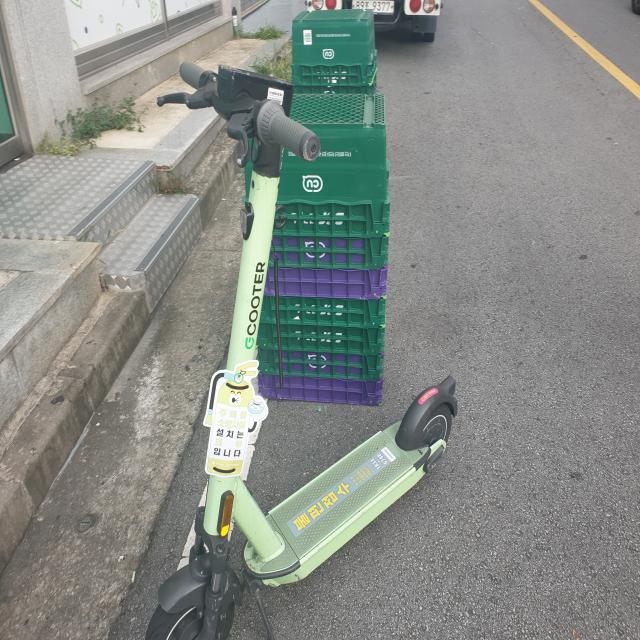bike: (138, 12, 458, 639), (139, 365, 457, 640)
car: (301, 0, 447, 43)
